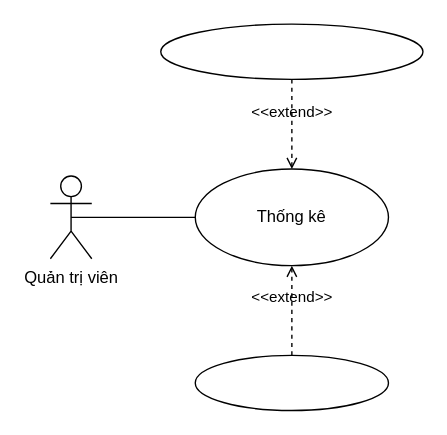
This 447x435 diagram has some shape labels left out. The centre of each missing label's shape, as x and y in pixels:
Thống kê doanh thu: pixel 291 382
Thống kê sản phẩm bán chạy: pixel 291 51
